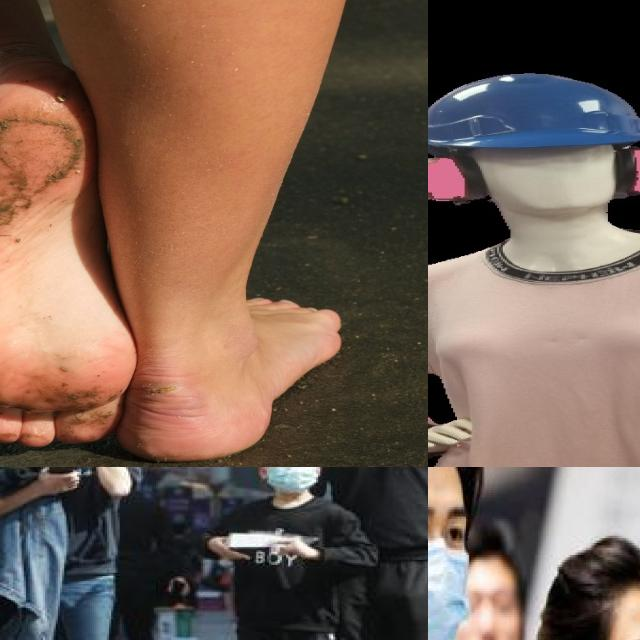Barefoots: (0, 56, 136, 447), (116, 298, 342, 461)
Ear-protection: (428, 161, 640, 228)
face_mask: (428, 497, 470, 640), (264, 467, 318, 493)
face_nomask: (453, 555, 522, 640)
hand_noglove: (205, 530, 252, 564), (38, 468, 80, 494), (270, 533, 311, 558)
head_helmet: (428, 62, 640, 158)
head_nohelmet: (576, 538, 640, 629)
person: (0, 467, 177, 640), (203, 467, 365, 640), (298, 467, 428, 640), (428, 467, 539, 640), (525, 533, 640, 640)
